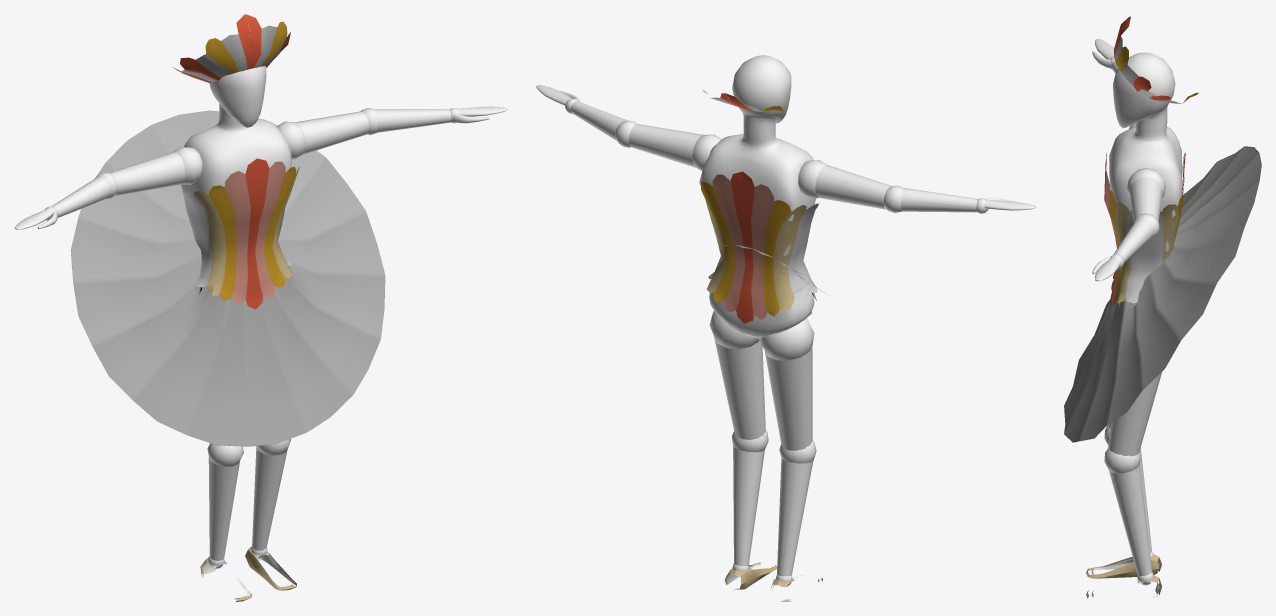
Rendered from BaseModelCustom003.gltf.
3 renders of one model, left to right at view 1: azimuth 30°, elevation 25°; view 2: azimuth 150°, elevation 25°; view 3: azimuth 270°, elevation 25°, orthographic.
Parts seen in each view (by area): view 1: Lower, Body03, Upper_2, Upper; view 2: Body03, Upper_2; view 3: Lower, Body03, Upper_2, Upper, Shoe2.
Part boxes in pixels (left/top/right/bottom): Lower: left=70, top=110, right=385, bottom=446; Body03: left=14, top=66, right=507, bottom=599; Upper_2: left=182, top=158, right=299, bottom=309; Upper: left=172, top=14, right=290, bottom=82; Body03: left=536, top=55, right=1035, bottom=600; Upper_2: left=701, top=171, right=818, bottom=323; Lower: left=1064, top=146, right=1261, bottom=442; Body03: left=1091, top=38, right=1182, bottom=597; Upper_2: left=1104, top=152, right=1185, bottom=305; Upper: left=1114, top=16, right=1198, bottom=103; Shoe2: left=1086, top=554, right=1161, bottom=578.
Size of the model in its own units: 434 by 477 by 150.
Materials: 2 (1 with a texture image).
